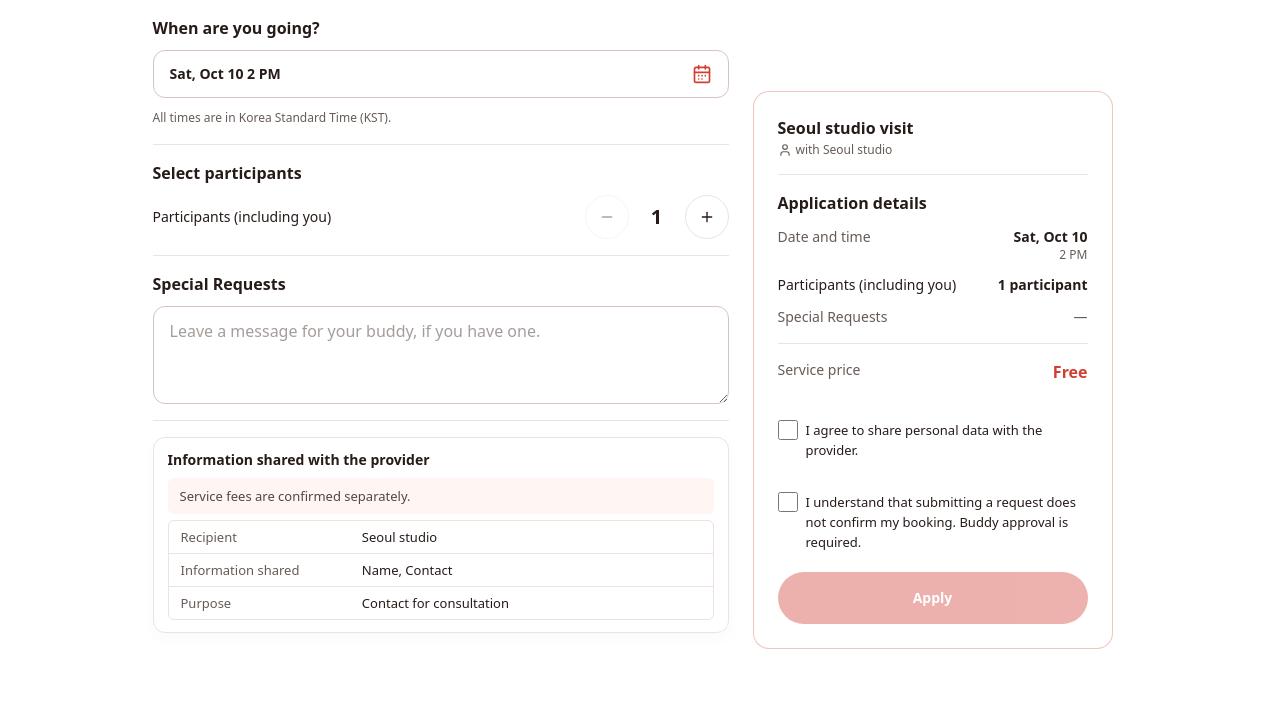
Test: referral application form › uses the shared booking layout and calendar without payment or unsupported request fields
expect the text "Contact for consultation" is shown: met, box [362,594,509,612]
expect the checkbox labelled "I agree to share personal data with the provider." is enabled: met, box [778,420,798,440]
Click the button with aria-label "Date and time" at coordinates (225, 74), box [152,50,728,98]
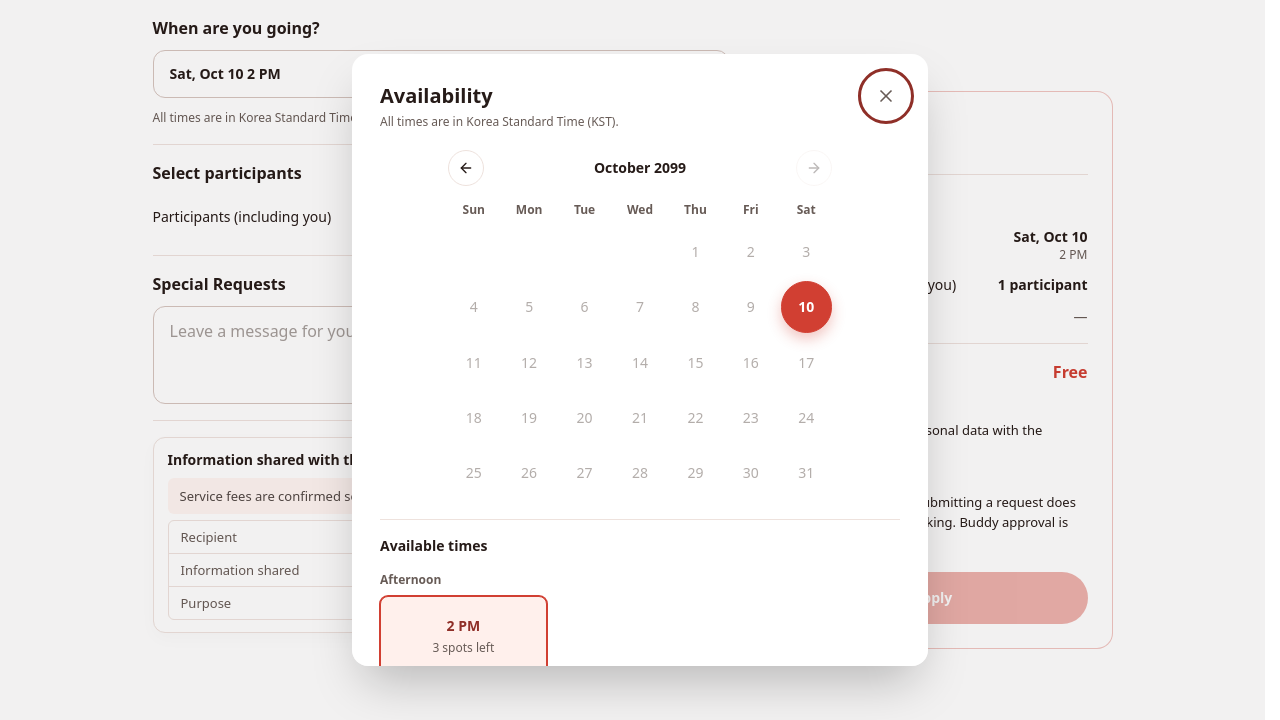
expect the dialog is shown: met, box [352,54,928,666]
